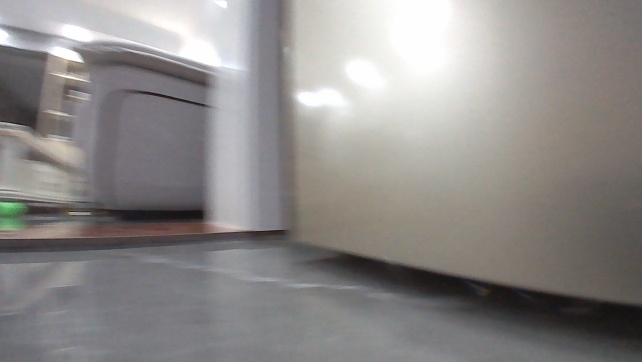sofa1: (70, 31, 217, 218)
